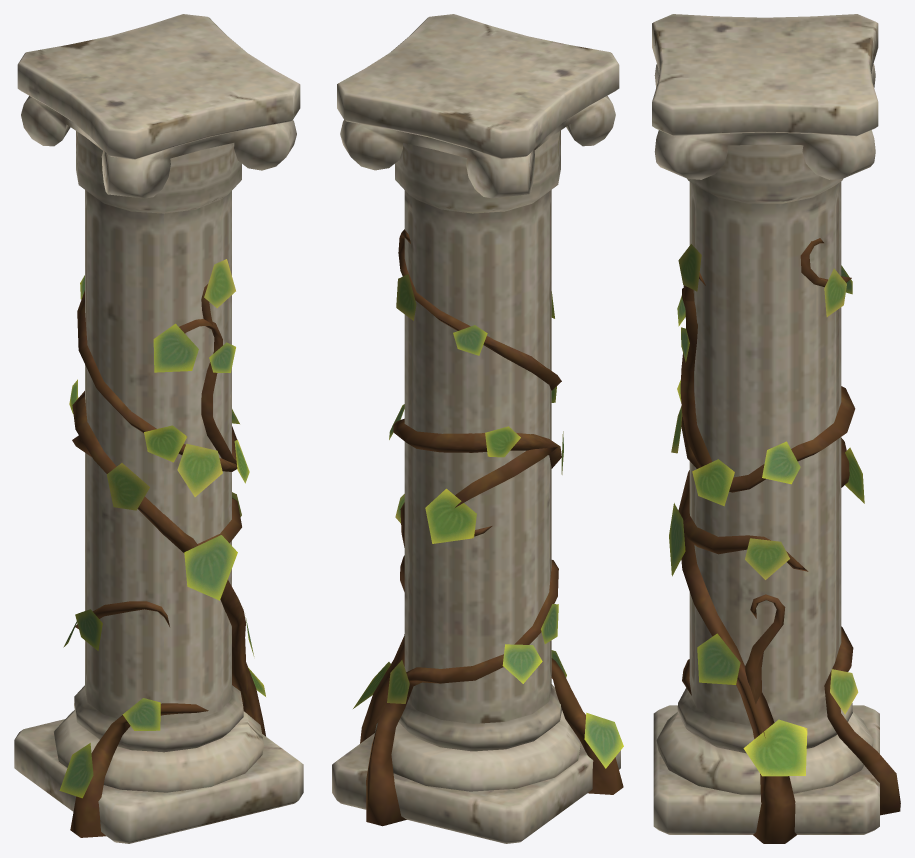
The model's file is ruins-pillar.glb.
3 views of the same model, side by side, from view 1: azimuth 30°, elevation 25°; view 2: azimuth 150°, elevation 25°; view 3: azimuth 270°, elevation 25° (orthographic). The views are drawn at different scales.
Visible parts, largest first — view 1: Scene; view 2: Scene; view 3: Scene.
Boxes of the visible parts, bbox=[...] form: Scene: bbox=[14, 14, 303, 843]; Scene: bbox=[332, 14, 623, 843]; Scene: bbox=[652, 14, 900, 843].
Bounding box in the file's own units: 9.19 × 27.9 × 8.64.
1 material, 1 textured.
